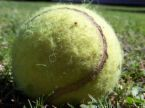tennis ball: (8, 2, 129, 107)
